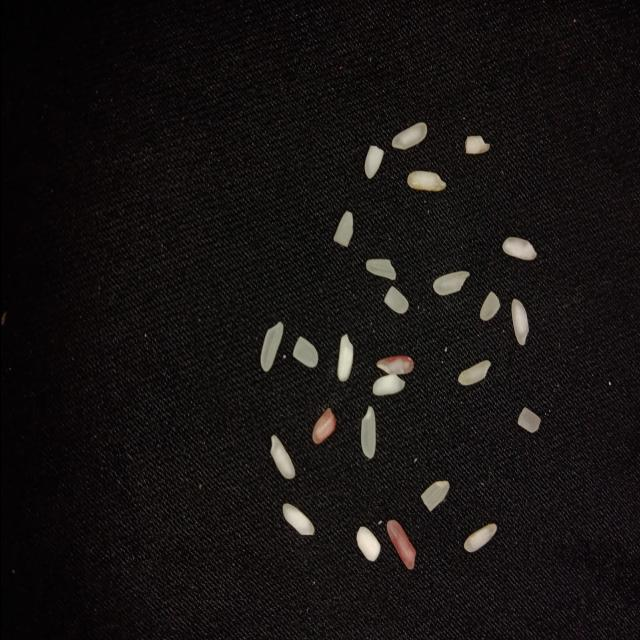Broken: (386, 518, 415, 570), (420, 480, 450, 512), (290, 336, 318, 368), (310, 408, 334, 445), (355, 528, 379, 562), (374, 354, 413, 374), (382, 285, 407, 315), (332, 210, 352, 247), (478, 290, 500, 320), (362, 146, 382, 178), (365, 258, 395, 278), (516, 407, 540, 432), (464, 135, 489, 154)
Full: (258, 320, 282, 372), (268, 434, 294, 478), (282, 502, 314, 536), (462, 523, 497, 553), (391, 122, 426, 150), (432, 270, 469, 296), (500, 235, 536, 261), (406, 170, 446, 192), (335, 334, 353, 382), (512, 298, 530, 346), (457, 360, 489, 386), (371, 374, 405, 397), (360, 404, 374, 458)
